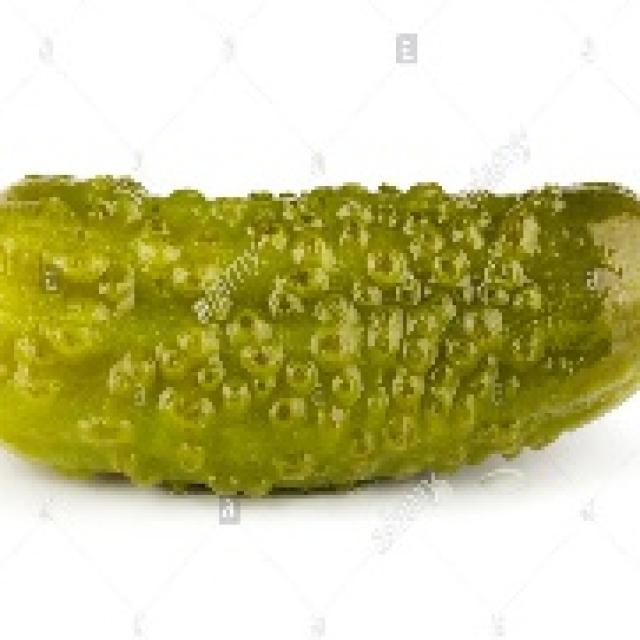cucumber: (0, 171, 640, 480)
